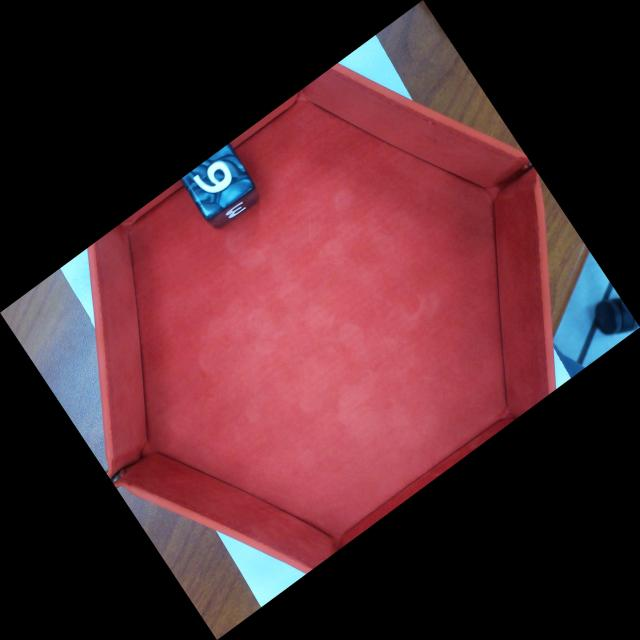dice: (188, 145, 251, 216)
